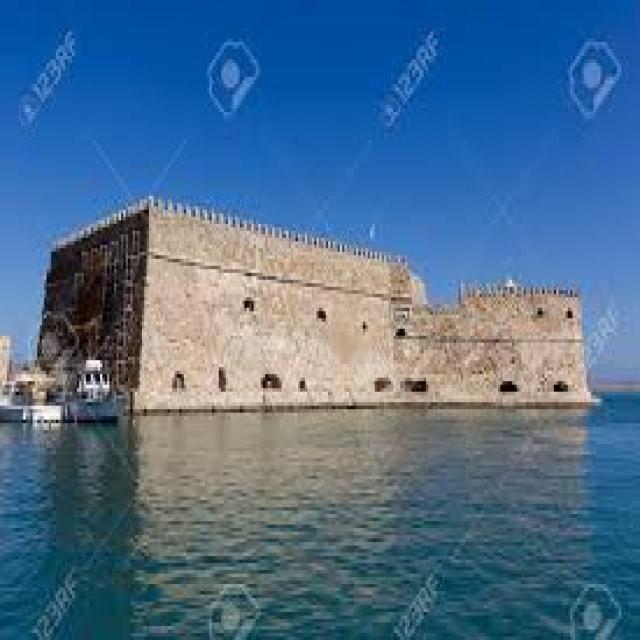Kules: (37, 185, 593, 409)
